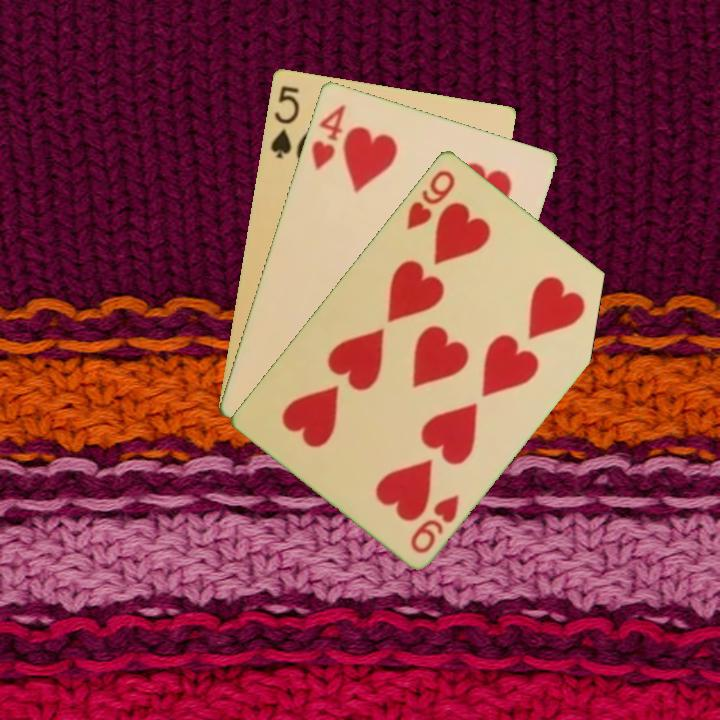4h: (307, 100, 348, 173)
5s: (266, 81, 302, 161)
9h: (402, 165, 459, 232), (406, 490, 463, 556)
